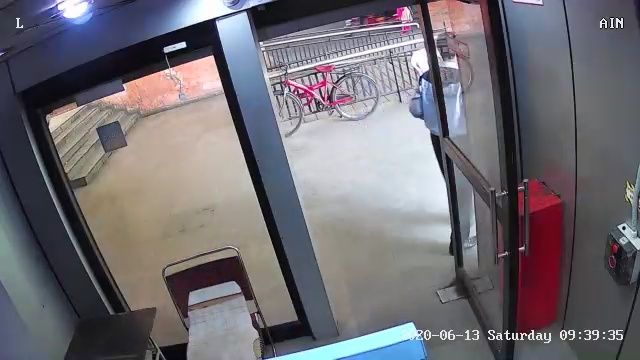open: (210, 1, 535, 360)
